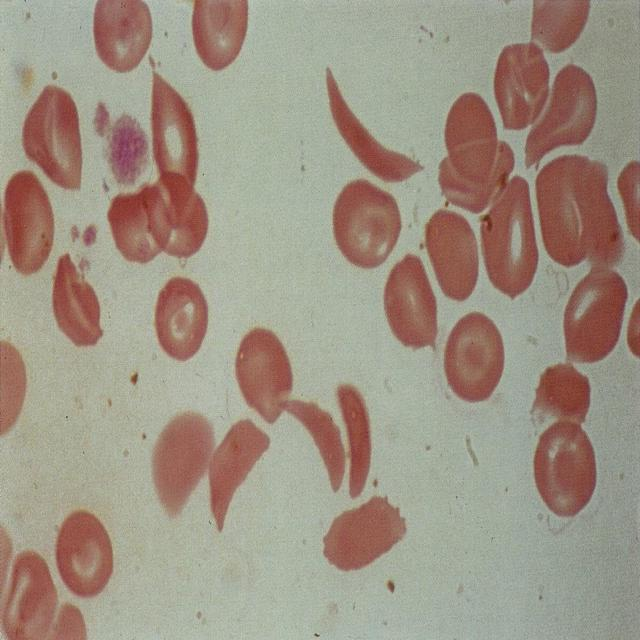RBC: (322, 166, 410, 275), (48, 498, 120, 596), (188, 0, 267, 80), (86, 0, 161, 76)
sickle cell: (319, 61, 431, 195), (279, 379, 353, 509), (337, 369, 385, 506)
